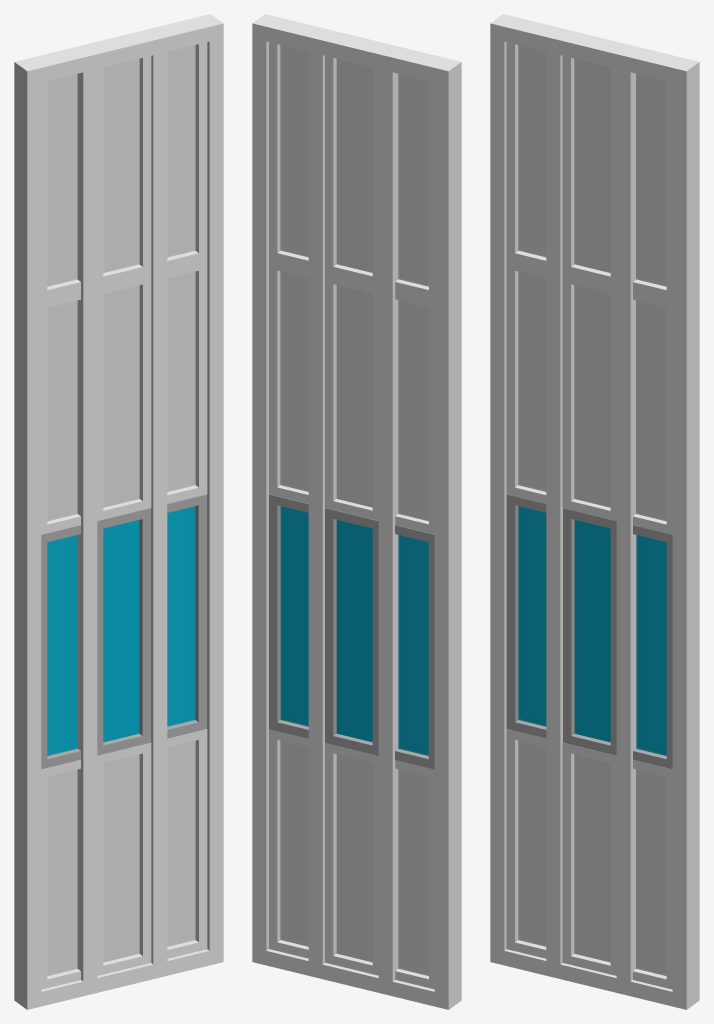
File: 61129ec4-ccd7-4a57-ab31-93686a8082d3.glb
3 views of the same model, side by side, from view 1: azimuth 30°, elevation 25°; view 2: azimuth 150°, elevation 25°; view 3: azimuth 330°, elevation 25° (orthographic).
Parts seen in each view (by area): view 1: C1 [656603][622955f5-6867-4ba3-be16-e17823eead73-000a04db], C2 [656906][622955f5-6867-4ba3-be16-e17823eead73-000a060a]; view 2: C1 [656603][622955f5-6867-4ba3-be16-e17823eead73-000a04db], C2 [656906][622955f5-6867-4ba3-be16-e17823eead73-000a060a]; view 3: C1 [656603][622955f5-6867-4ba3-be16-e17823eead73-000a04db], C2 [656906][622955f5-6867-4ba3-be16-e17823eead73-000a060a].
Boxes of the visible parts, left/top/right/bottom form: C1 [656603][622955f5-6867-4ba3-be16-e17823eead73-000a04db]: left=14, top=14, right=223, bottom=1009; C2 [656906][622955f5-6867-4ba3-be16-e17823eead73-000a060a]: left=71, top=27, right=167, bottom=995; C1 [656603][622955f5-6867-4ba3-be16-e17823eead73-000a04db]: left=252, top=14, right=461, bottom=1009; C2 [656906][622955f5-6867-4ba3-be16-e17823eead73-000a060a]: left=308, top=27, right=404, bottom=995; C1 [656603][622955f5-6867-4ba3-be16-e17823eead73-000a04db]: left=490, top=14, right=699, bottom=1009; C2 [656906][622955f5-6867-4ba3-be16-e17823eead73-000a060a]: left=546, top=28, right=642, bottom=994.
Bounding box in the file's own units: 0.7003 × 3.2 × 0.0797.
